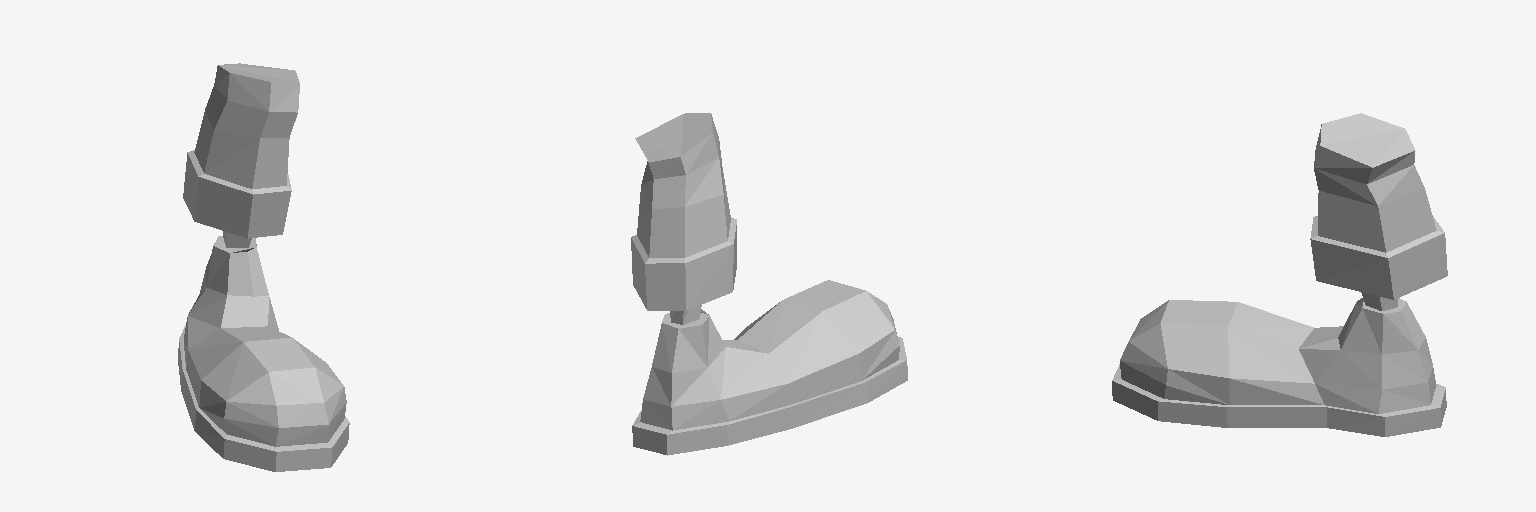
Rendered from RodillaDerecho.obj.
3 renders of one model, left to right at view 1: azimuth 30°, elevation 25°; view 2: azimuth 150°, elevation 25°; view 3: azimuth 270°, elevation 25°, orthographic.
Bounding box in the file's own units: 8.98 × 14.89 × 15.12.